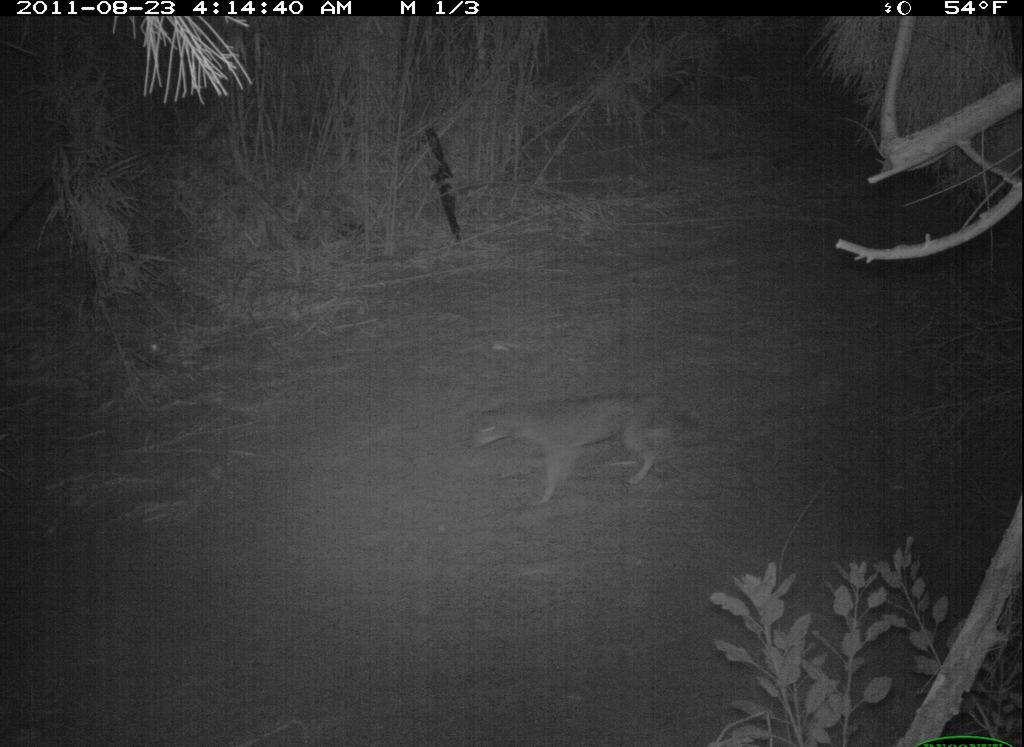coyote: (466, 388, 708, 511)
